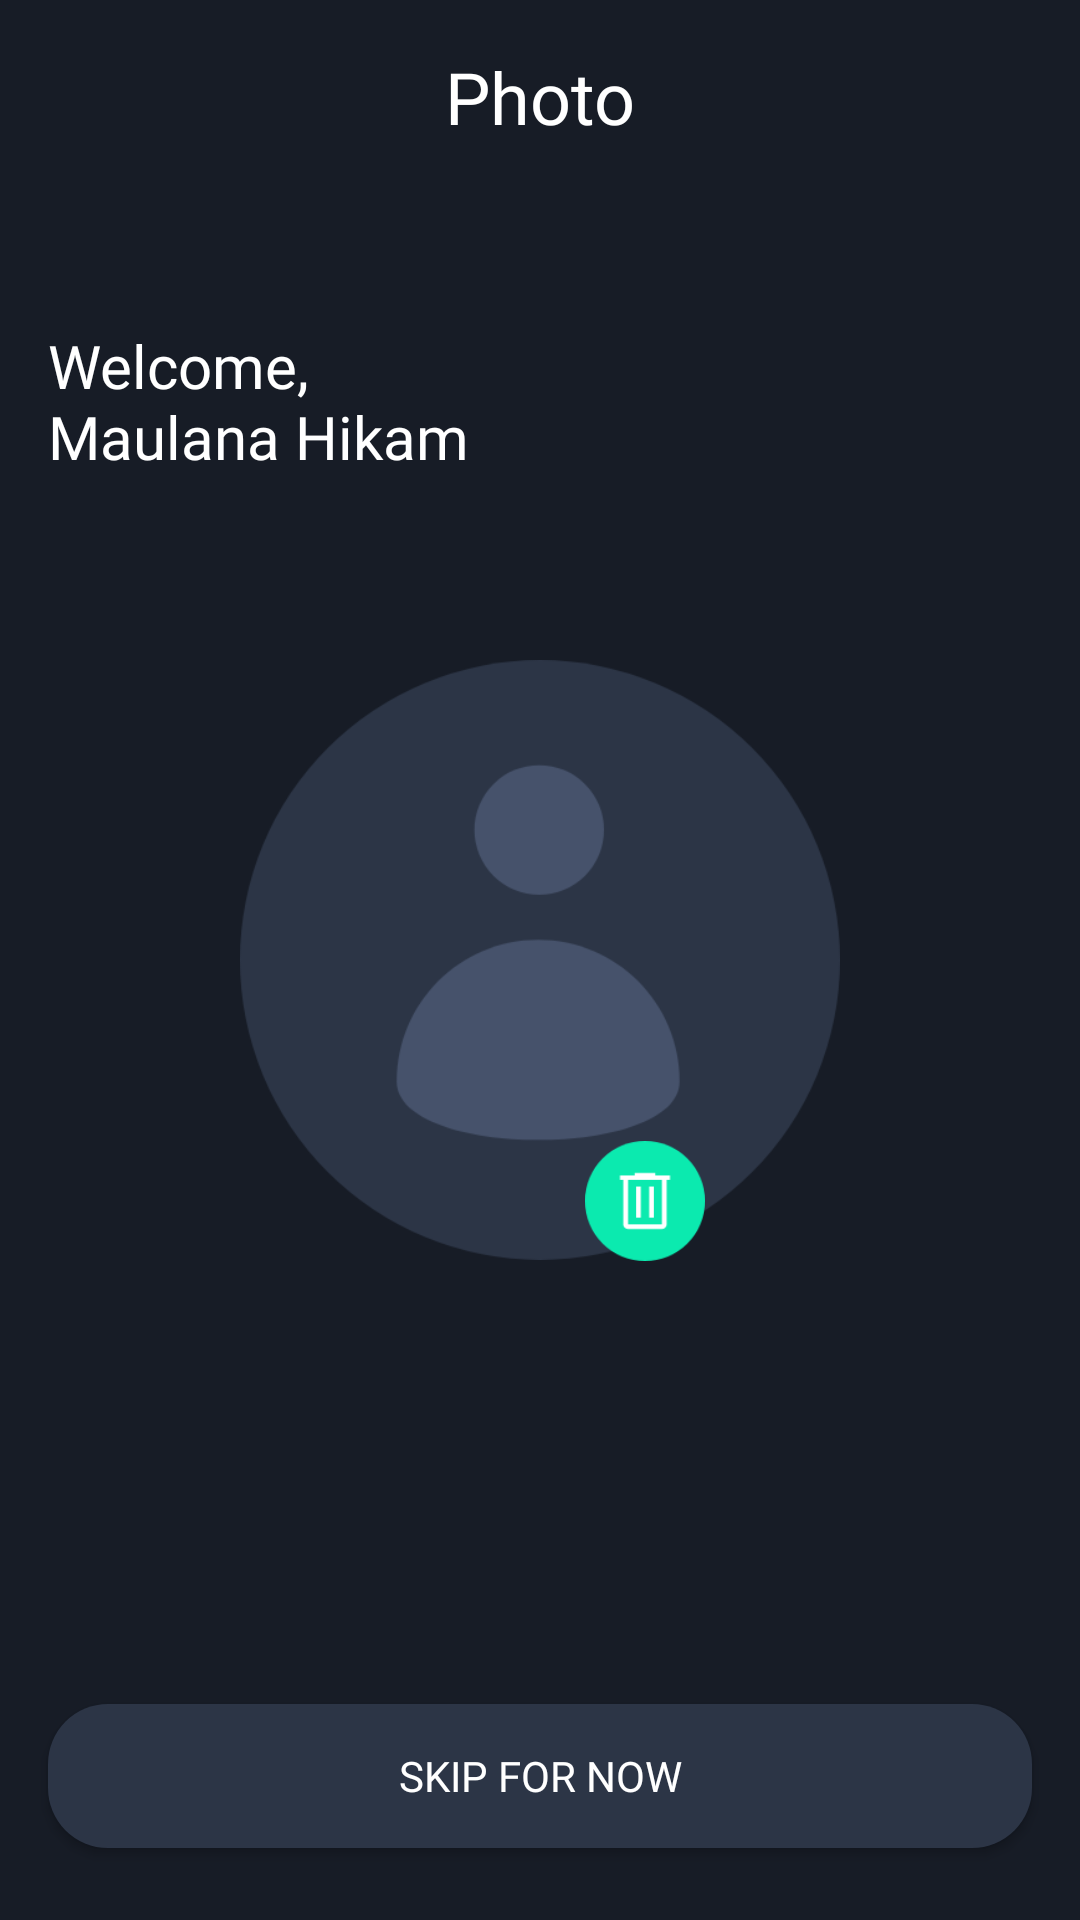

Screen size 1080*1920. Icon name, then its box in pixels as (x1, y1, x2, y2):
delete: (585, 1141, 705, 1261)
